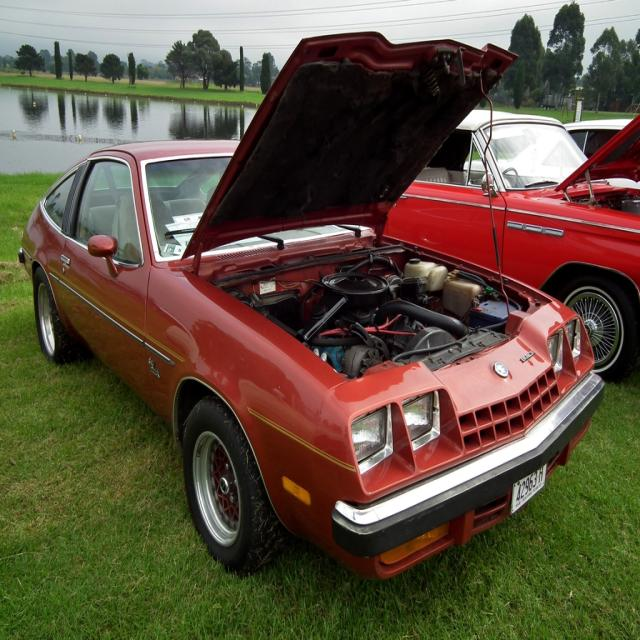car: (14, 33, 604, 569)
